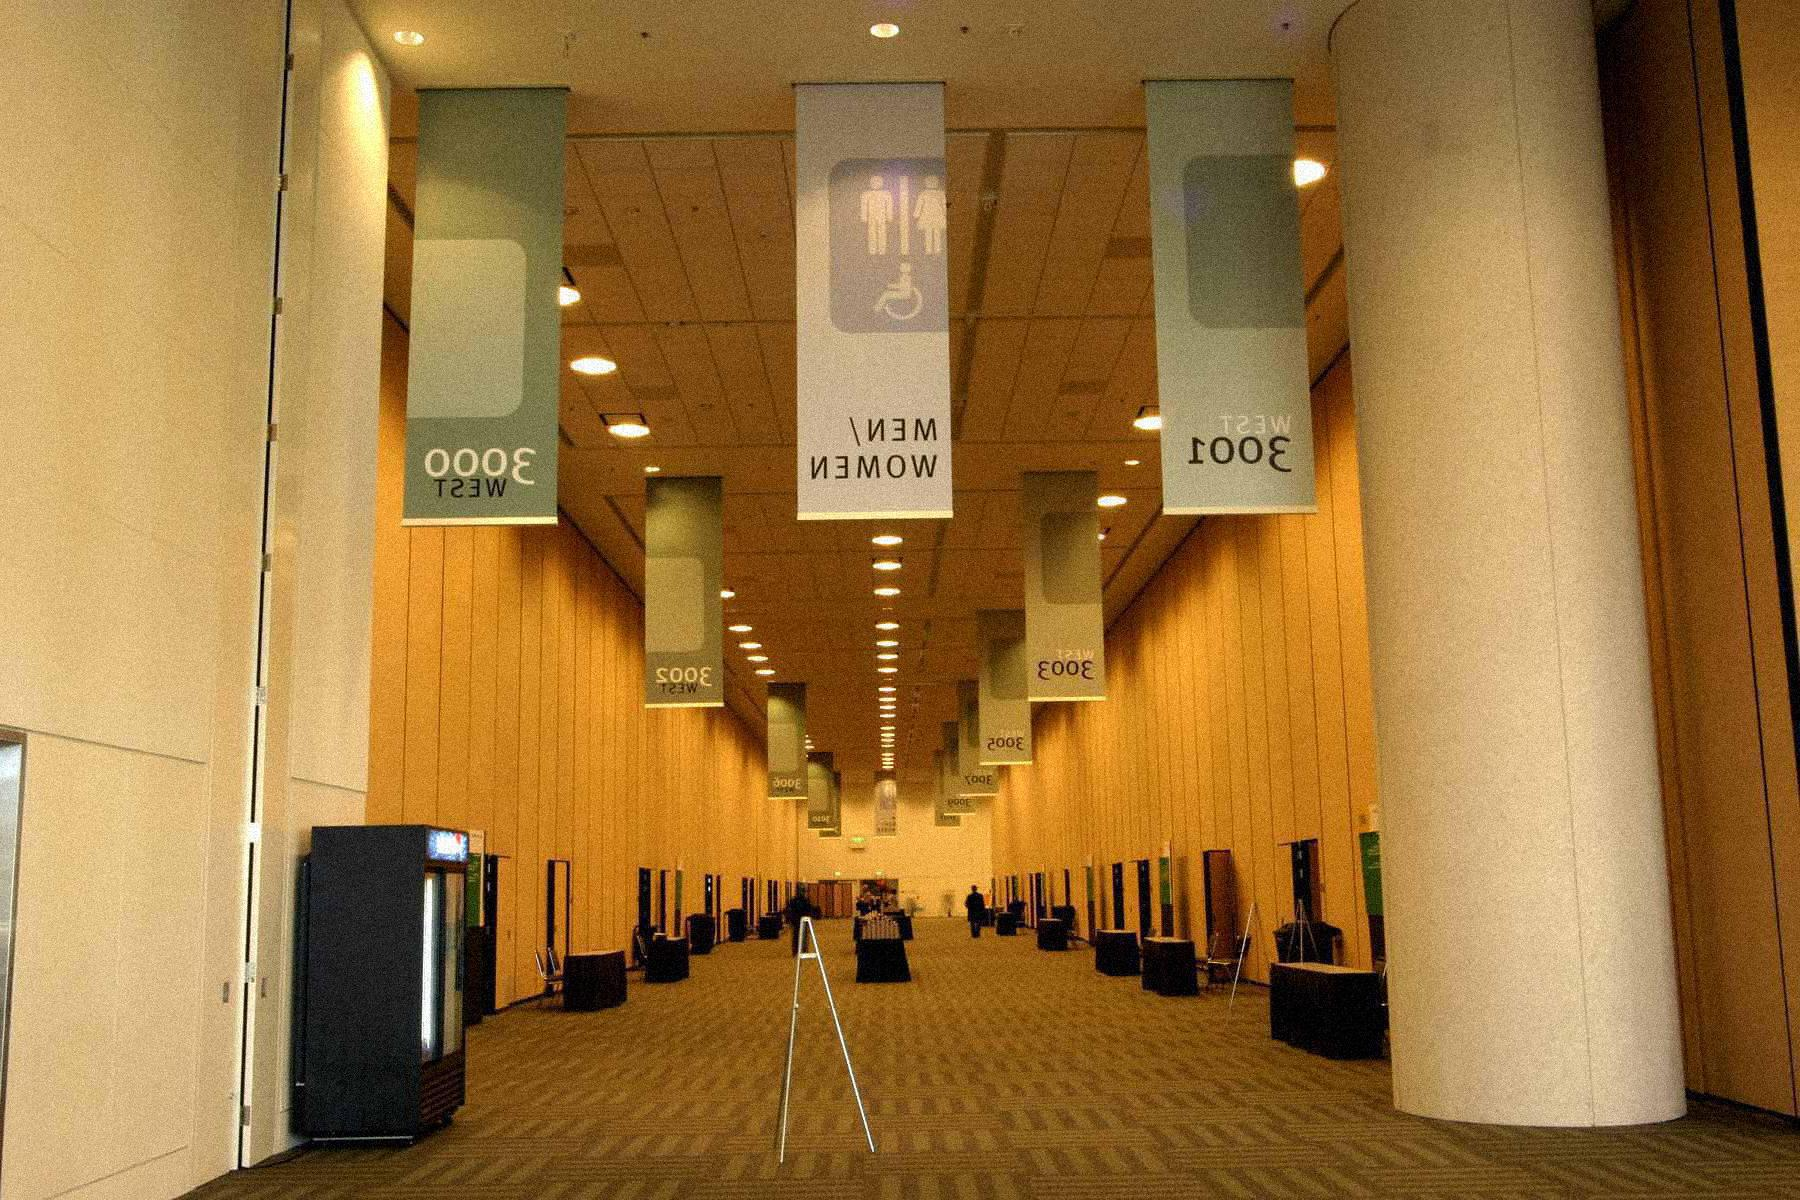Otro Obstaculo: (297, 821, 473, 1137), (741, 903, 890, 1179)
